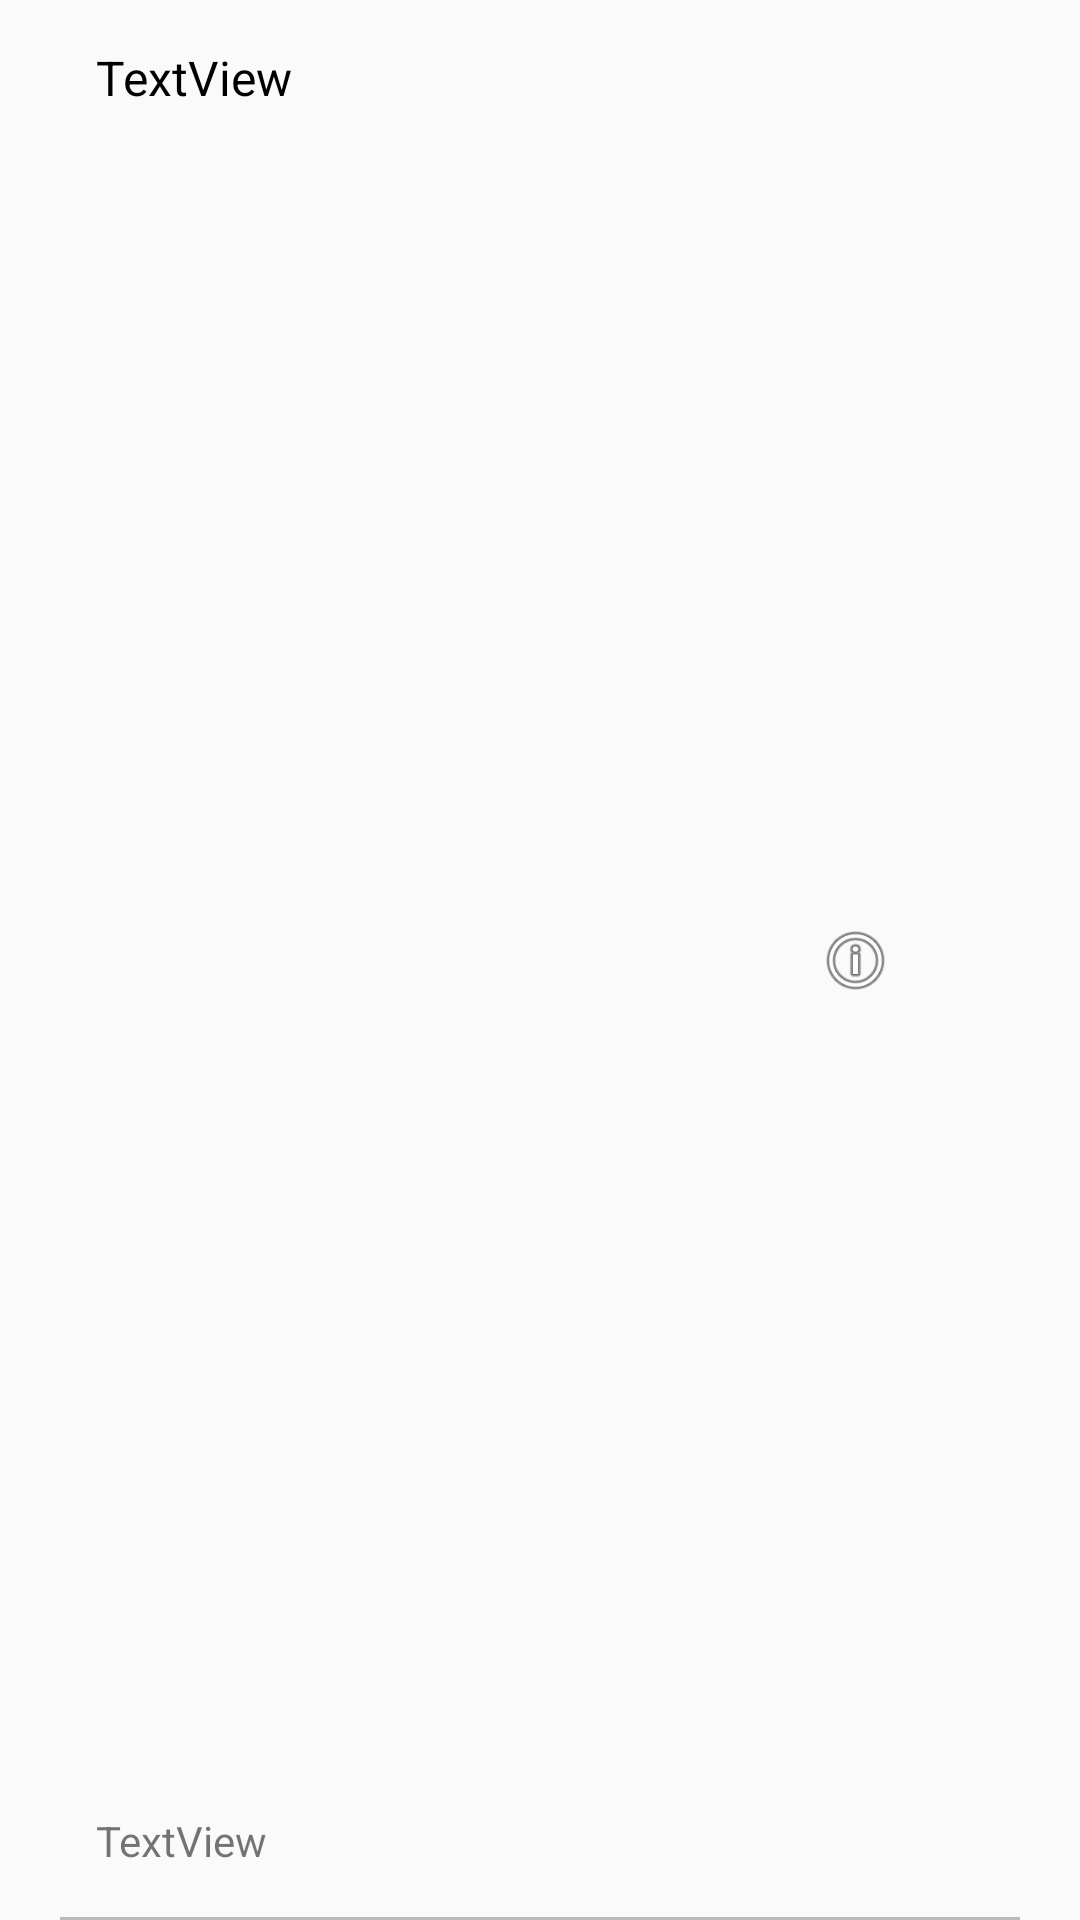

Icons on this 1080x1920 Android screen, each with its box as [x1, y1, x2, y2]:
info details: [826, 931, 885, 990]
